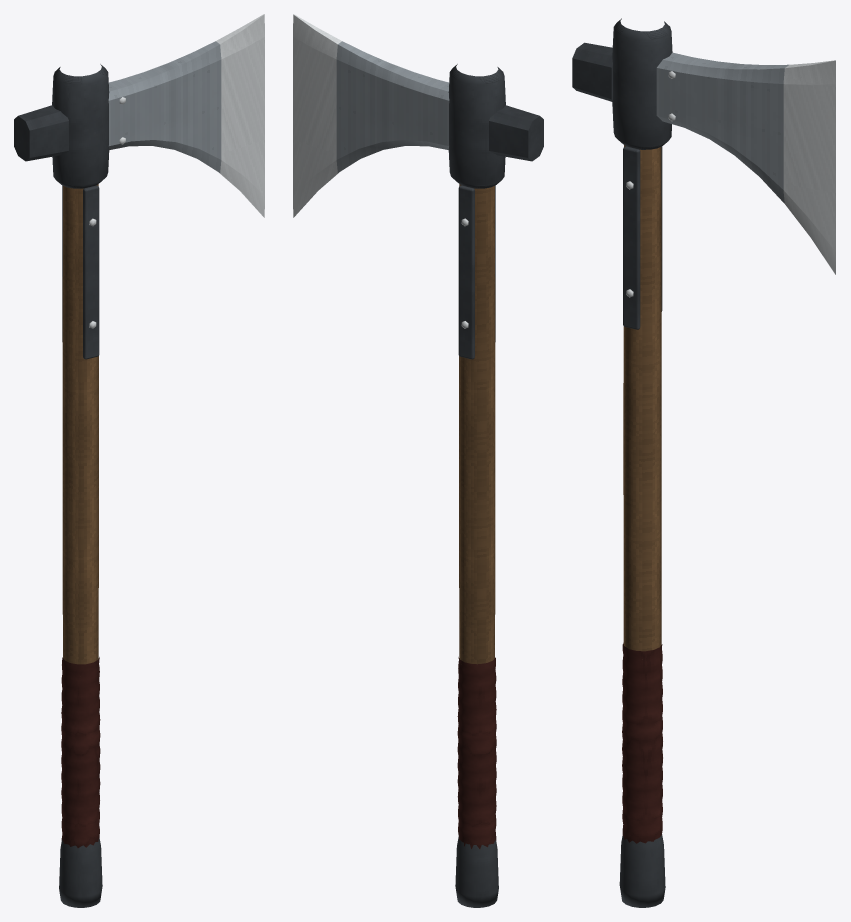
File: war-axe.lod1.glb
3 views of the same model, side by side, from view 1: azimuth 30°, elevation 25°; view 2: azimuth 150°, elevation 25°; view 3: azimuth 330°, elevation 25° (orthographic). The views are drawn at different scales.
Parts seen in each view (by area): view 1: wood / oiled hardwood, darksteel / oil-blackened fittings, steel / forged blade steel, edge / honed bright bevel, leather / oiled leather wrap; view 2: wood / oiled hardwood, darksteel / oil-blackened fittings, steel / forged blade steel, edge / honed bright bevel, leather / oiled leather wrap; view 3: wood / oiled hardwood, darksteel / oil-blackened fittings, steel / forged blade steel, edge / honed bright bevel, leather / oiled leather wrap.
Part boxes in pixels (<box>): wood / oiled hardwood: <box>62,184,98,664</box>; darksteel / oil-blackened fittings: <box>14,64,109,907</box>; steel / forged blade steel: <box>108,41,221,172</box>; edge / honed bright bevel: <box>89,14,264,328</box>; leather / oiled leather wrap: <box>61,657,100,847</box>; wood / oiled hardwood: <box>459,184,495,664</box>; darksteel / oil-blackened fittings: <box>448,64,543,907</box>; steel / forged blade steel: <box>336,41,449,172</box>; edge / honed bright bevel: <box>293,14,468,328</box>; leather / oiled leather wrap: <box>457,657,496,848</box>; wood / oiled hardwood: <box>623,145,661,659</box>; darksteel / oil-blackened fittings: <box>572,18,672,907</box>; steel / forged blade steel: <box>656,52,788,203</box>; edge / honed bright bevel: <box>626,60,835,297</box>; leather / oiled leather wrap: <box>622,643,662,843</box>.
Size of the model in its own units: 0.2529 by 0.837 by 0.048.
5 materials, 5 textured.
